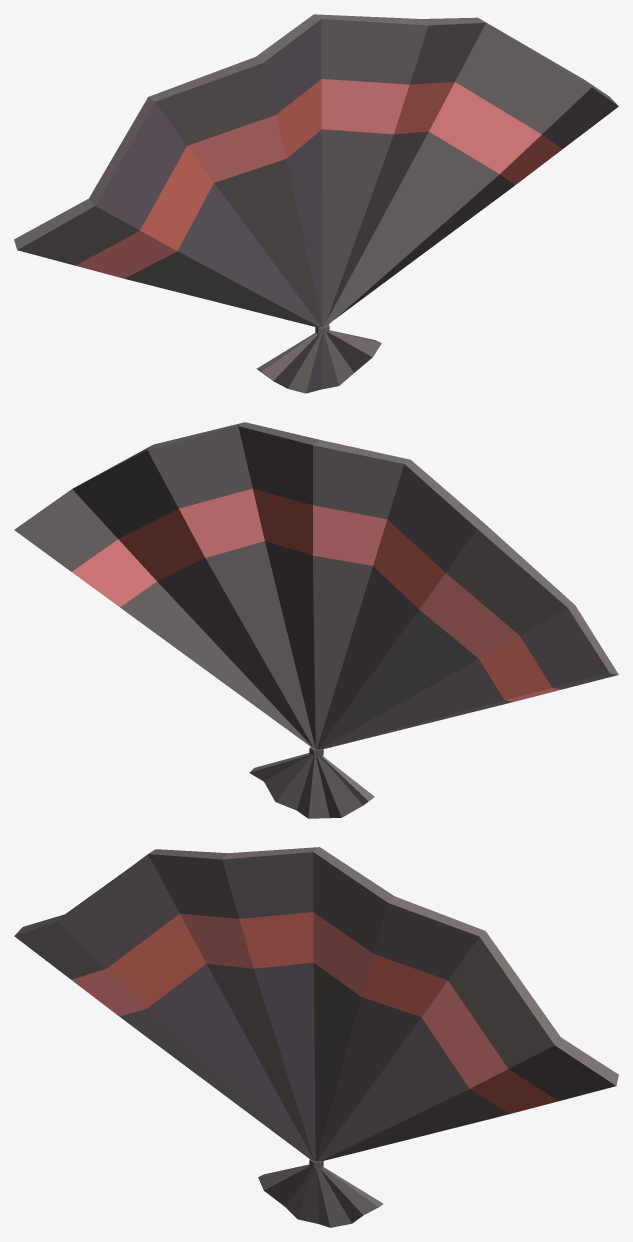
The model's file is Fan.fbx.
The picture shows the model from 3 angles, top to bottom: view 1: azimuth 30°, elevation 25°; view 2: azimuth 150°, elevation 25°; view 3: azimuth 330°, elevation 25°; orthographic projection.
Parts seen in each view (by area): view 1: Fan; view 2: Fan; view 3: Fan.
Boxes of the visible parts, x1,y1,x2,y2 form: Fan: (14, 14, 618, 393); Fan: (14, 422, 618, 818); Fan: (14, 847, 618, 1227).
Size of the model in its own units: 418 by 248 by 30.27.
